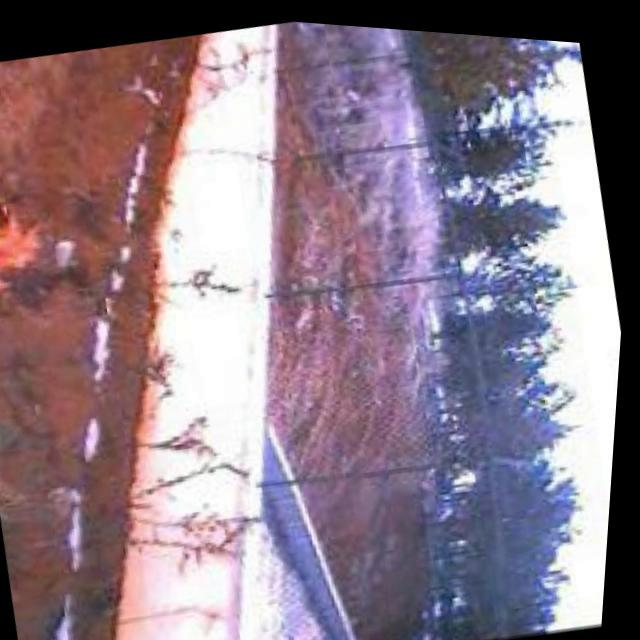fire: (1, 141, 72, 319)
